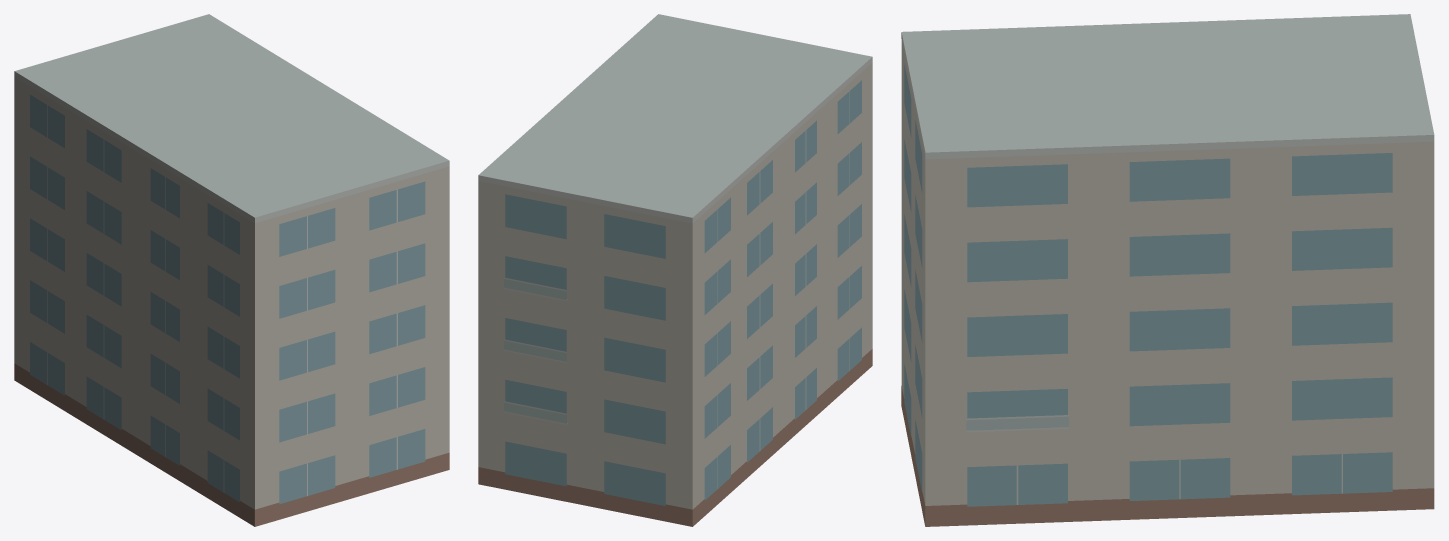
Rendered from survey-upis-33013565.glb.
The picture shows the model from 3 angles, left to right: view 1: azimuth 30°, elevation 25°; view 2: azimuth 150°, elevation 25°; view 3: azimuth 270°, elevation 25°; orthographic projection. The views are drawn at different scales.
Visible parts, largest first — view 1: survey-upis-33013565.tmp; view 2: survey-upis-33013565.tmp; view 3: survey-upis-33013565.tmp.
Part boxes in pixels (left/top/right/bottom): survey-upis-33013565.tmp: left=14, top=14, right=449, bottom=526; survey-upis-33013565.tmp: left=478, top=14, right=872, bottom=526; survey-upis-33013565.tmp: left=901, top=14, right=1434, bottom=526.
Bounding box in the file's own units: 10.58 × 13.3 × 17.17.
